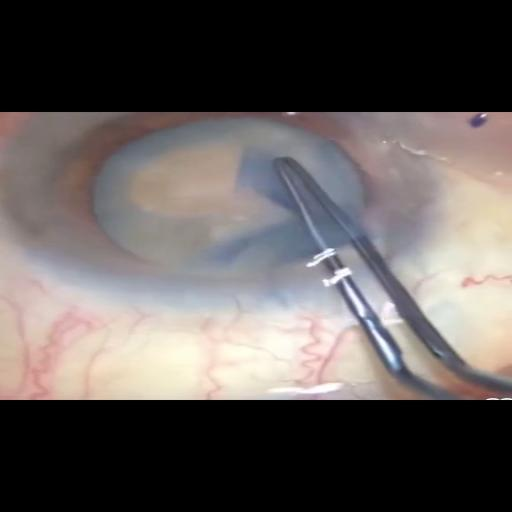catarata: (99, 117, 361, 282)
cornea: (63, 92, 436, 316)
pupil: (52, 112, 399, 291)
